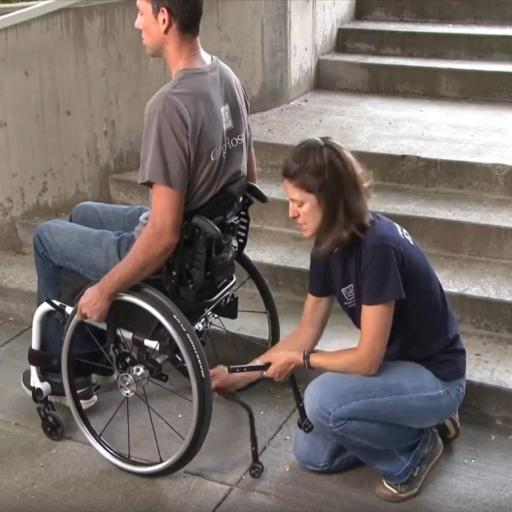laptop: (211, 138, 466, 502), (33, 0, 256, 321)
sofa: (247, 0, 511, 420)
wheelchair: (29, 178, 279, 475)
